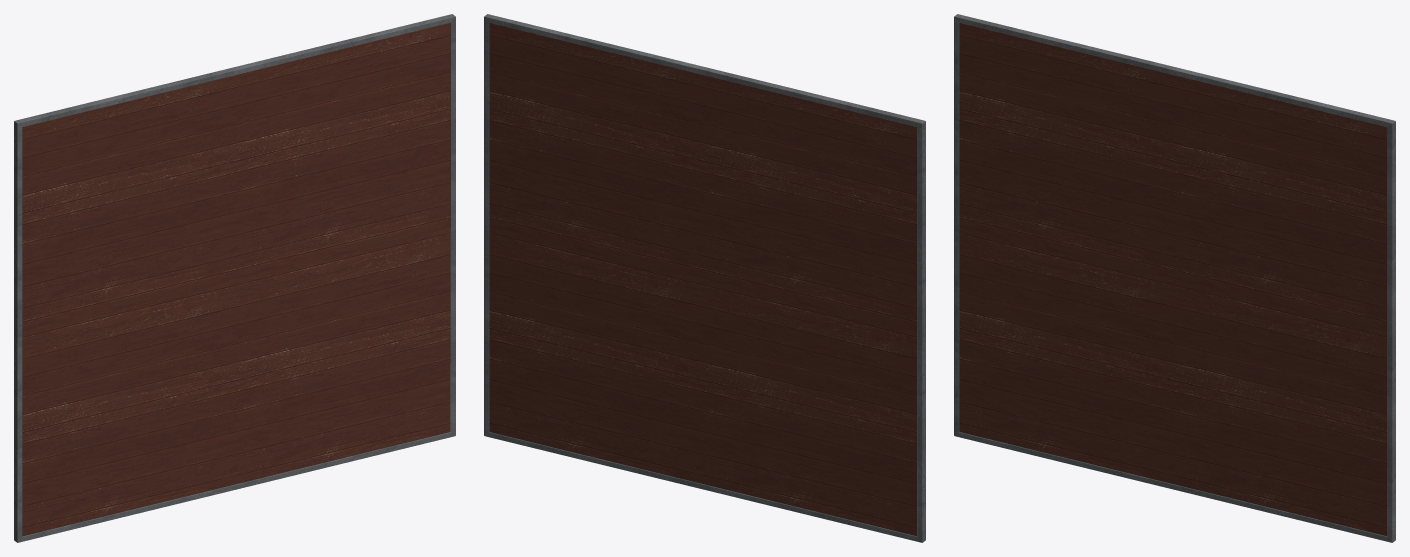
The model's file is Pen_01_Wall_Alt.fbx.
The picture shows the model from 3 angles, left to right: view 1: azimuth 30°, elevation 25°; view 2: azimuth 150°, elevation 25°; view 3: azimuth 330°, elevation 25°; orthographic projection.
Visible parts, largest first — view 1: Pen_01_Wall_Alt; view 2: Pen_01_Wall_Alt; view 3: Pen_01_Wall_Alt.
Part boxes in pixels (x1=…): Pen_01_Wall_Alt: x1=14, y1=14, x2=455, y2=542; Pen_01_Wall_Alt: x1=484, y1=14, x2=925, y2=542; Pen_01_Wall_Alt: x1=954, y1=14, x2=1395, y2=542.
Size of the model in its own units: 350 by 320 by 5.
